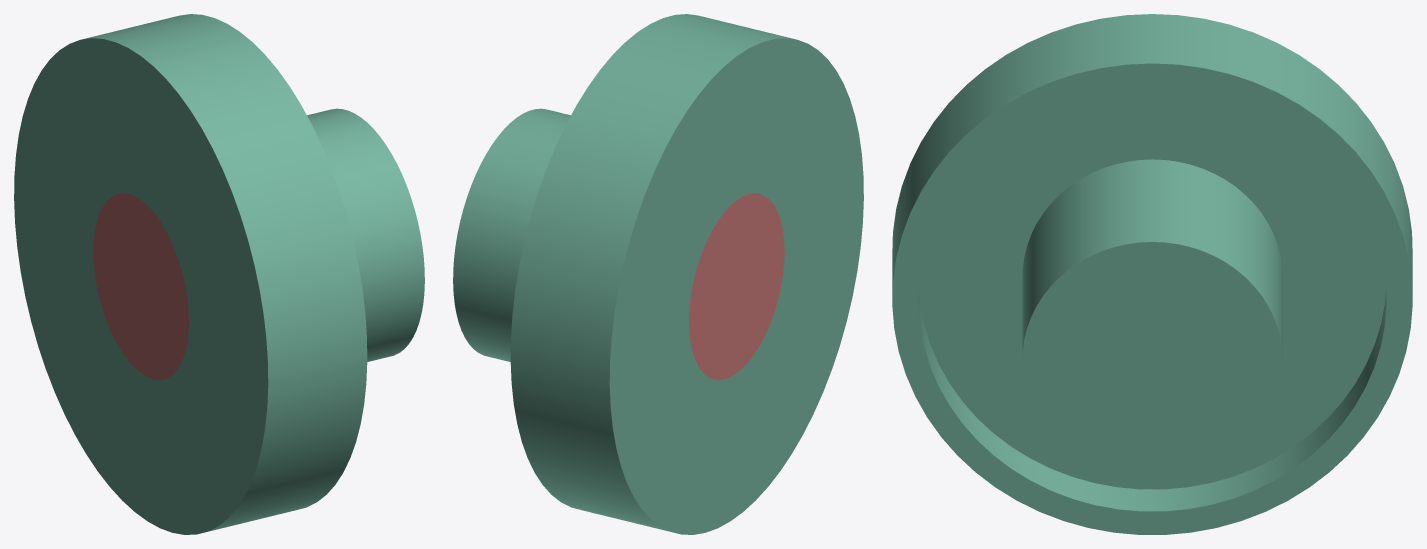
The model's file is step_09.glb.
The picture shows the model from 3 angles, left to right: view 1: azimuth 30°, elevation 25°; view 2: azimuth 150°, elevation 25°; view 3: azimuth 270°, elevation 25°; orthographic projection. The views are drawn at different scales.
Parts seen in each view (by area): view 1: part__flange B (recess), removed__flange B (recess); view 2: part__flange B (recess), removed__flange B (recess); view 3: part__flange B (recess).
Part boxes in pixels (x1,y1,x2,y2): part__flange B (recess): (14,14,424,534); removed__flange B (recess): (93,193,188,379); part__flange B (recess): (453,14,863,534); removed__flange B (recess): (689,193,784,379); part__flange B (recess): (892,14,1412,534).
Size of the model in its own units: 80 by 160 by 160.
